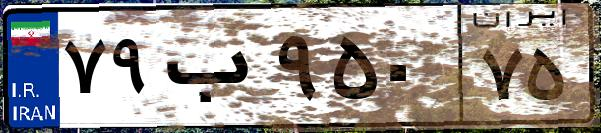0: (385, 28, 445, 110)
5: (330, 28, 385, 110), (525, 38, 570, 115)
7: (57, 26, 110, 100), (475, 38, 525, 113)
9: (270, 28, 330, 110), (110, 28, 158, 98)
ب: (158, 20, 270, 120)
